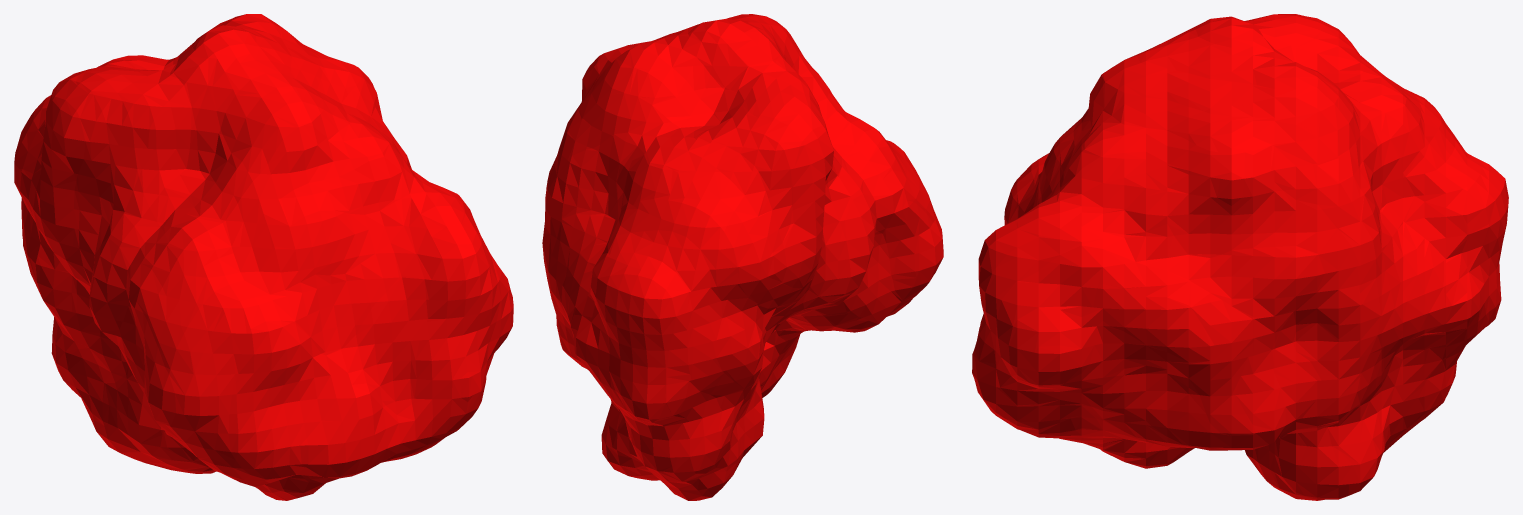
File: pssA_coarse.dae
3 renders of one model, left to right at view 1: azimuth 30°, elevation 25°; view 2: azimuth 150°, elevation 25°; view 3: azimuth 270°, elevation 25°, orthographic. The views are drawn at different scales.
Visible parts, largest first — view 1: pssA; view 2: pssA; view 3: pssA.
Boxes of the visible parts, x1=… form: pssA: x1=14, y1=14, x2=513, y2=500; pssA: x1=542, y1=14, x2=943, y2=500; pssA: x1=972, y1=14, x2=1508, y2=500.
Size of the model in its own units: 49.7 by 64.38 by 67.52.
